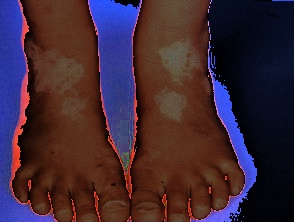vitiligo: (0, 27, 112, 129), (150, 25, 227, 115), (148, 80, 199, 126)
